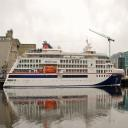cruises: (3, 40, 125, 89)
